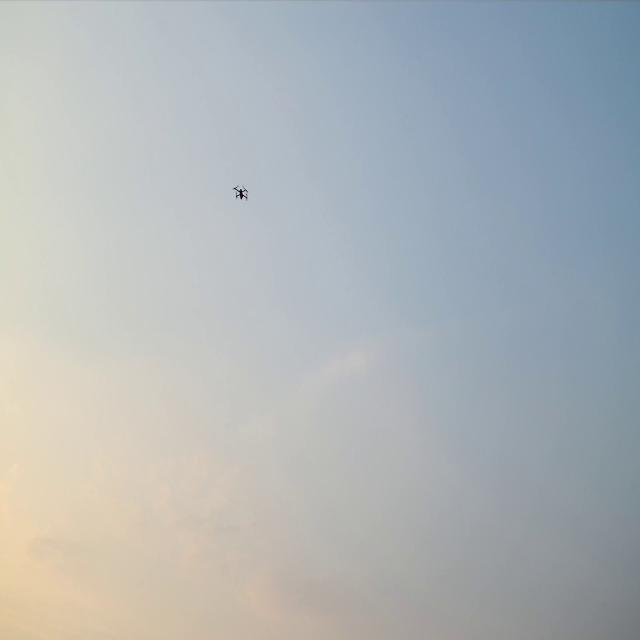UAV: (234, 186, 247, 200)
